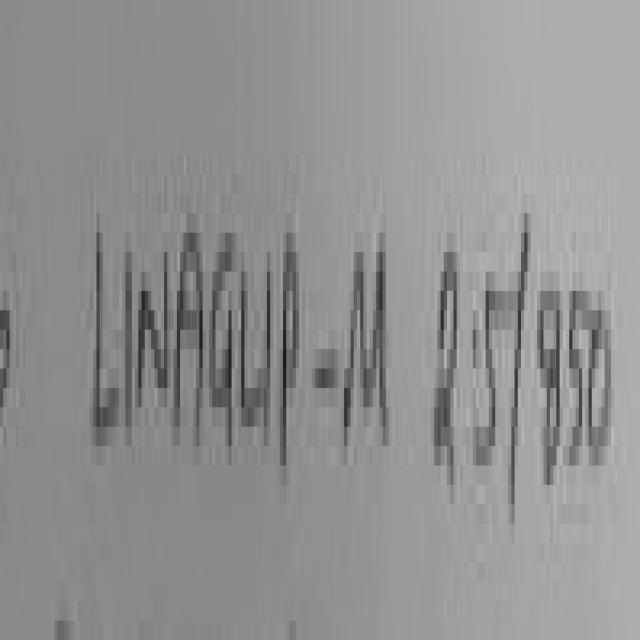0: (592, 310, 614, 465)
2: (437, 252, 460, 485)
5: (476, 291, 518, 456), (572, 291, 592, 456)
8: (538, 292, 563, 489)
A: (177, 233, 203, 436)
G: (212, 233, 235, 436)
I: (262, 251, 272, 448), (125, 252, 132, 446)
L: (93, 233, 119, 446), (239, 282, 262, 445)
M: (344, 233, 389, 446)
N: (138, 262, 167, 398)
P: (283, 233, 299, 456)
